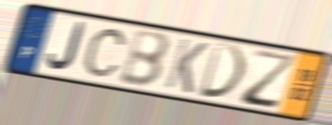B: (117, 29, 172, 91)
C: (82, 26, 129, 78)
D: (196, 40, 249, 101)
J: (45, 20, 87, 73)
K: (163, 36, 211, 96)
Z: (239, 48, 299, 112)
